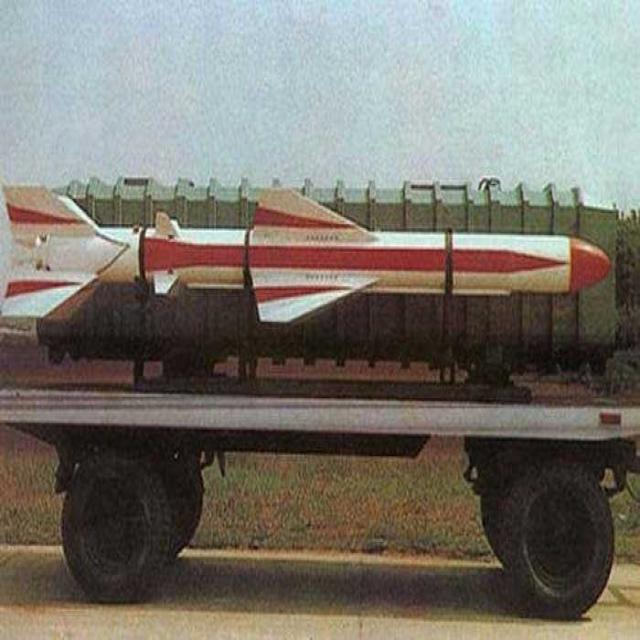missile: (0, 181, 618, 328)
